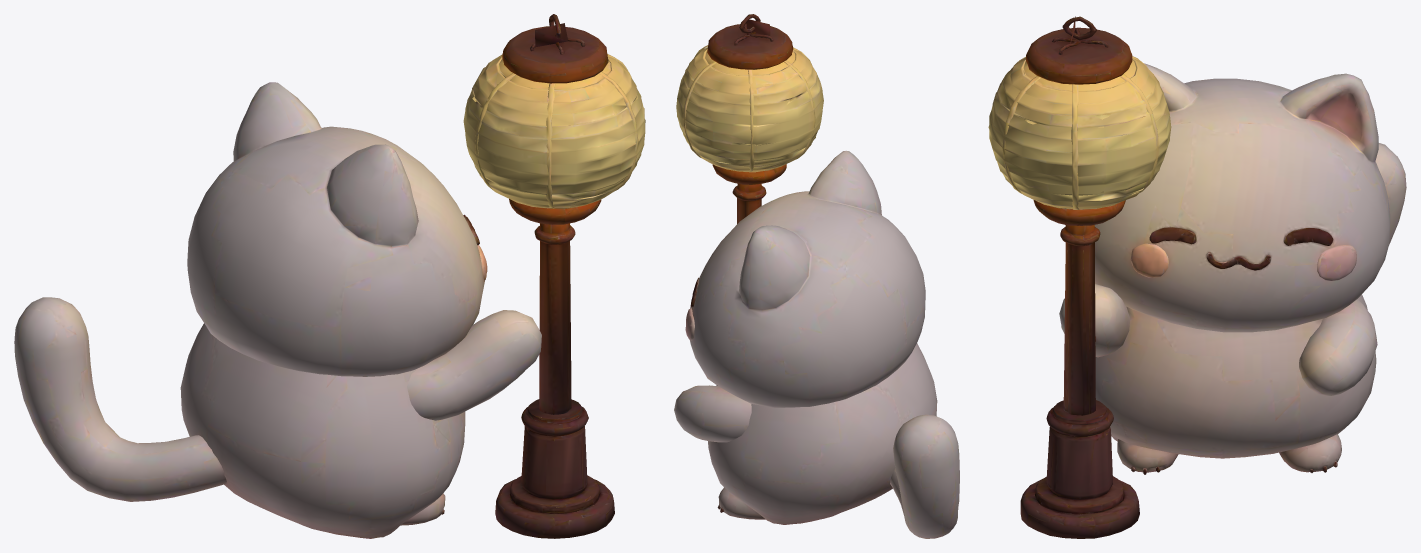
Rendered from cat-lamppost.glb.
3 renders of one model, left to right at view 1: azimuth 30°, elevation 25°; view 2: azimuth 150°, elevation 25°; view 3: azimuth 270°, elevation 25°, orthographic. The views are drawn at different scales.
Visible parts, largest first — view 1: tripo_node_ebbee3a5-654a-4f2d-861c-62ecd740a03d; view 2: tripo_node_ebbee3a5-654a-4f2d-861c-62ecd740a03d; view 3: tripo_node_ebbee3a5-654a-4f2d-861c-62ecd740a03d.
Boxes of the visible parts, bbox=[...] form: tripo_node_ebbee3a5-654a-4f2d-861c-62ecd740a03d: bbox=[14, 14, 645, 538]; tripo_node_ebbee3a5-654a-4f2d-861c-62ecd740a03d: bbox=[674, 14, 959, 538]; tripo_node_ebbee3a5-654a-4f2d-861c-62ecd740a03d: bbox=[988, 16, 1406, 538].
Bounding box in the file's own units: 0.9902 × 0.998 × 0.7597.
Materials: 1 (1 with a texture image).
